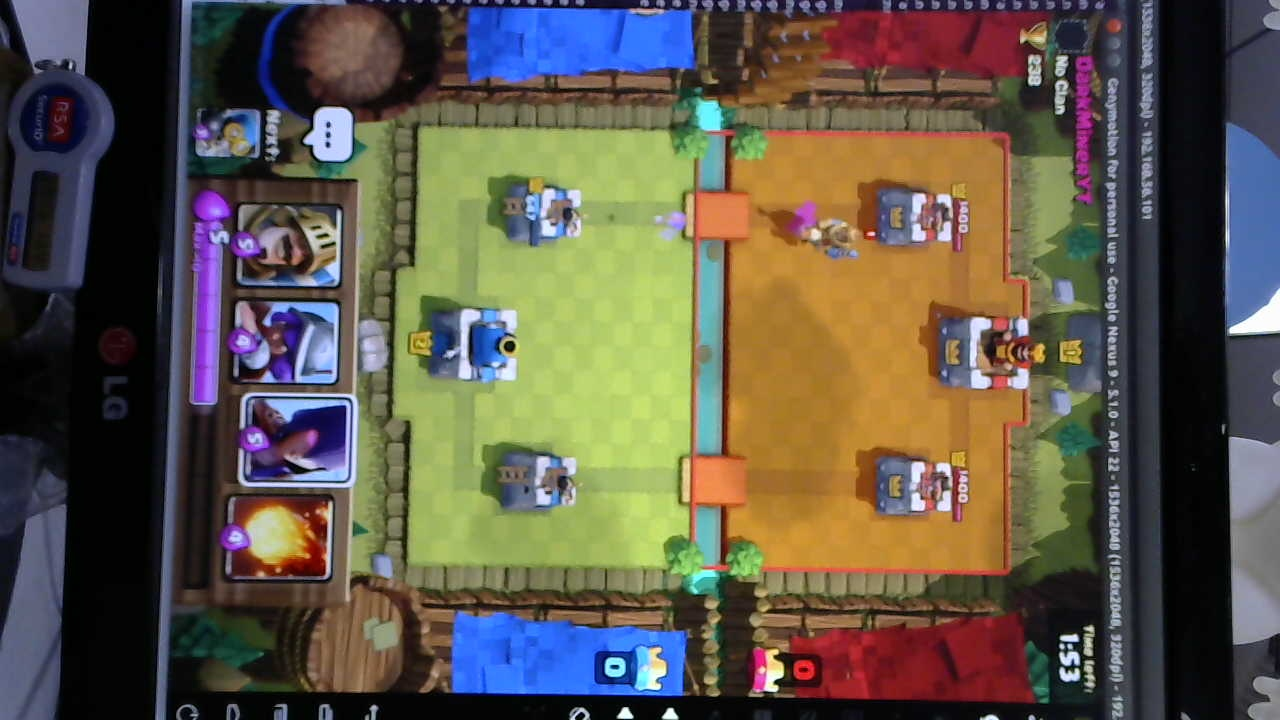arena: (493, 447, 581, 510), (510, 181, 590, 240)
earena: (869, 456, 953, 517), (876, 189, 952, 246)
eking: (946, 315, 1044, 388)
king: (441, 307, 519, 382)
prince: (794, 219, 865, 263)
